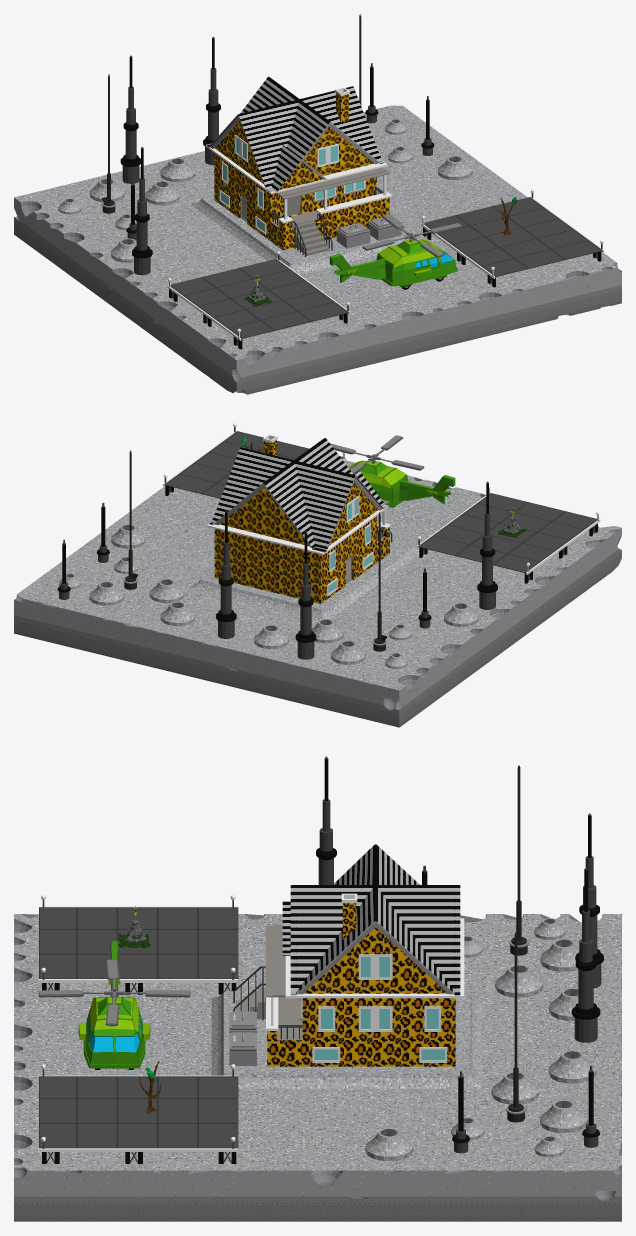
3 renders of one model, top to bottom at view 1: azimuth 30°, elevation 25°; view 2: azimuth 150°, elevation 25°; view 3: azimuth 270°, elevation 25°, orthographic. The views are drawn at different scales.
Parts seen in each view (by area): view 1: Cube.027, Cube.637, Cube.026, Cube.025, VEHICLES_HELICOPTER, Cube.028, Cylinder.020, Cylinder.021, Cylinder.017, Cube.029, Cylinder.027, Cylinder.033 (+3 smaller); view 2: Cube.027, Cube.637, Cube.025, Cube.028, Cube.026, VEHICLES_HELICOPTER, Cylinder.020, Cylinder.021, Cylinder.017, Cylinder.031, Cylinder.028, Cylinder.029 (+7 smaller); view 3: Cube.027, Cube.637, Cube.026, Cube.025, Cube.028, VEHICLES_HELICOPTER, Cylinder.017, Cylinder.020, Cylinder.021, Cylinder.033, Cylinder.031, Cylinder.029 (+9 smaller).
Part boxes in pixels (<box>): Cube.027: <box>14,105,621,394</box>; Cube.637: <box>205,76,392,256</box>; Cube.026: <box>421,189,604,287</box>; Cube.025: <box>167,251,350,349</box>; VEHICLES_HELICOPTER: <box>329,214,462,289</box>; Cube.028: <box>191,195,420,274</box>; Cylinder.020: <box>120,55,140,183</box>; Cylinder.021: <box>132,146,152,275</box>; Cylinder.017: <box>203,36,220,164</box>; Cube.029: <box>336,222,370,248</box>; Cylinder.027: <box>160,158,195,182</box>; Cylinder.033: <box>438,156,472,180</box>; Cube.027: <box>14,460,621,727</box>; Cube.637: <box>206,434,392,603</box>; Cube.025: <box>417,485,600,583</box>; Cube.028: <box>190,538,419,620</box>; Cube.026: <box>163,423,346,498</box>; VEHICLES_HELICOPTER: <box>330,435,455,507</box>; Cylinder.020: <box>295,531,316,659</box>; Cylinder.021: <box>477,481,497,609</box>; Cylinder.017: <box>216,510,236,638</box>; Cylinder.031: <box>89,581,124,605</box>; Cylinder.028: <box>331,640,365,664</box>; Cylinder.029: <box>160,601,195,626</box>; Cube.027: <box>14,914,621,1221</box>; Cube.637: <box>233,844,464,1066</box>; Cube.026: <box>39,1064,238,1163</box>; Cube.025: <box>39,895,238,994</box>; Cube.028: <box>211,991,481,1088</box>; VEHICLES_HELICOPTER: <box>38,941,190,1069</box>; Cylinder.017: <box>571,867,600,1042</box>; Cylinder.020: <box>575,813,603,988</box>; Cylinder.021: <box>316,756,336,884</box>; Cylinder.033: <box>365,1128,413,1160</box>; Cylinder.031: <box>540,1100,587,1132</box>; Cylinder.029: <box>548,1050,596,1083</box>.
Size of the model in its own units: 4000 by 1777 by 4000.
43 materials, 5 textured.
